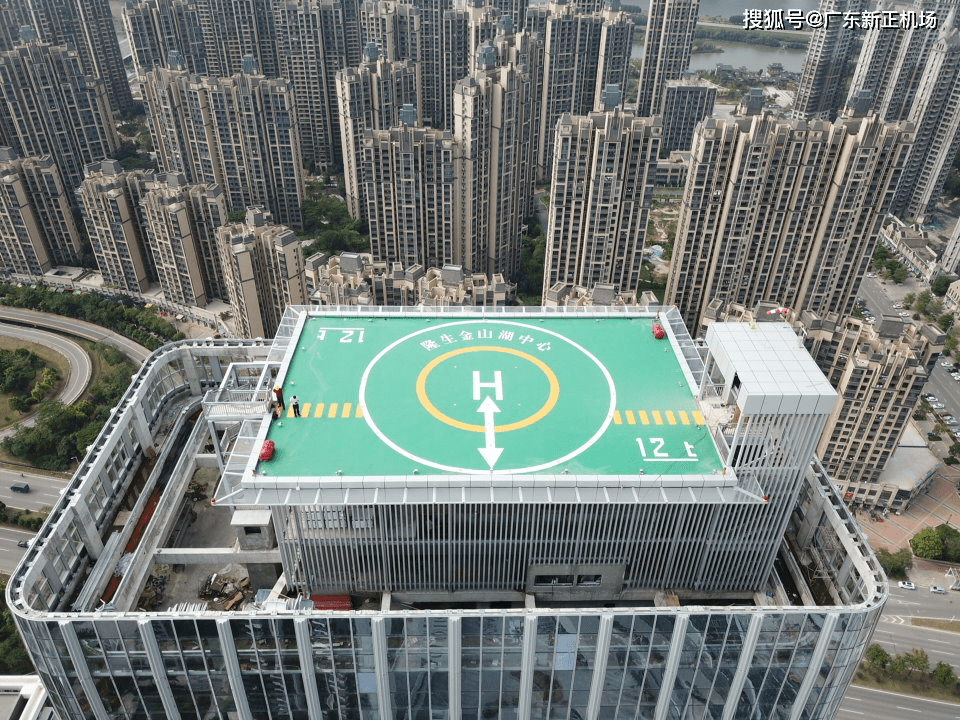H: (472, 371, 504, 402)
